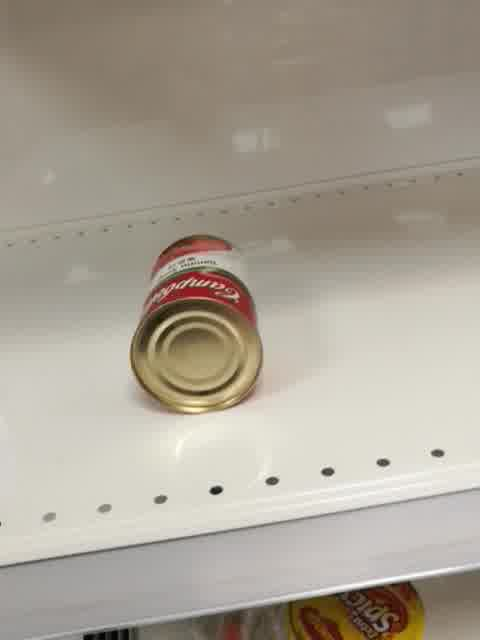tomatosoup: (127, 234, 265, 415)
